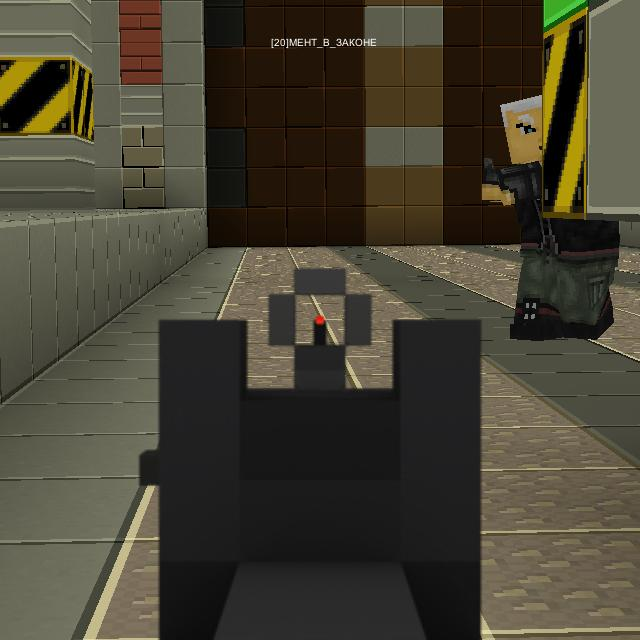enemy: (478, 87, 621, 343)
